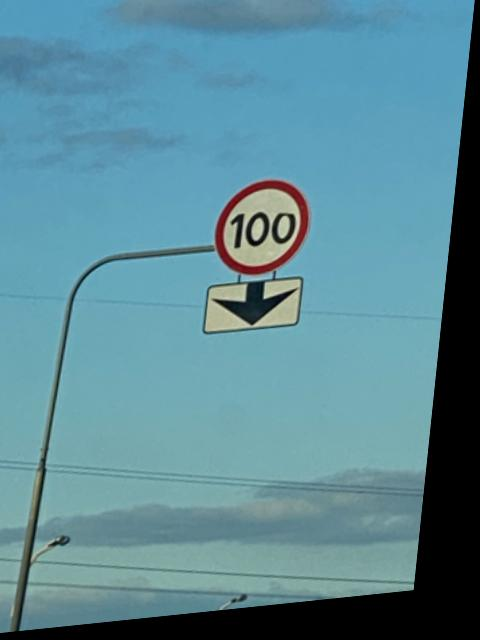limit100: (212, 177, 326, 288)
